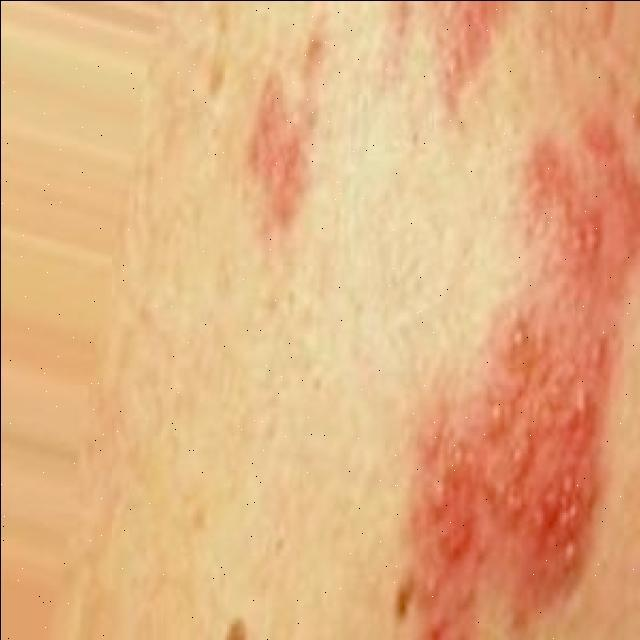Shingles: (413, 118, 638, 624), (240, 42, 329, 235), (379, 0, 525, 94)
